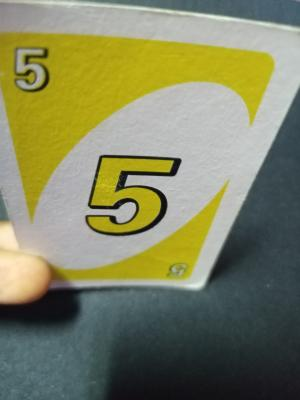num_5: (78, 140, 184, 256), (2, 32, 67, 136)
yellow: (131, 262, 199, 279)
